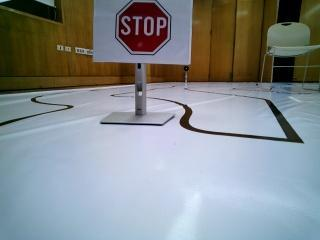stop: (97, 1, 186, 62)
